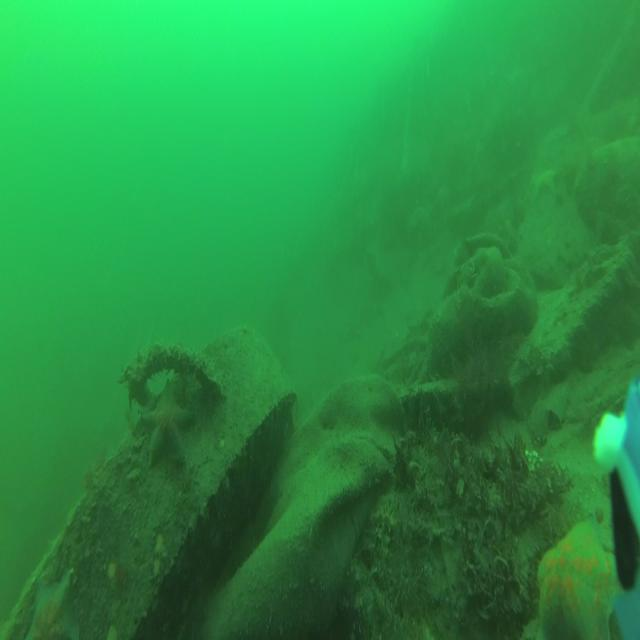starfish: (538, 518, 619, 640), (142, 381, 193, 465), (28, 571, 80, 640), (533, 169, 558, 199)
